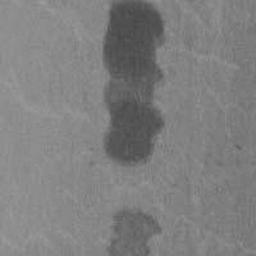Oil spot: (100, 0, 170, 170), (104, 205, 164, 256)
